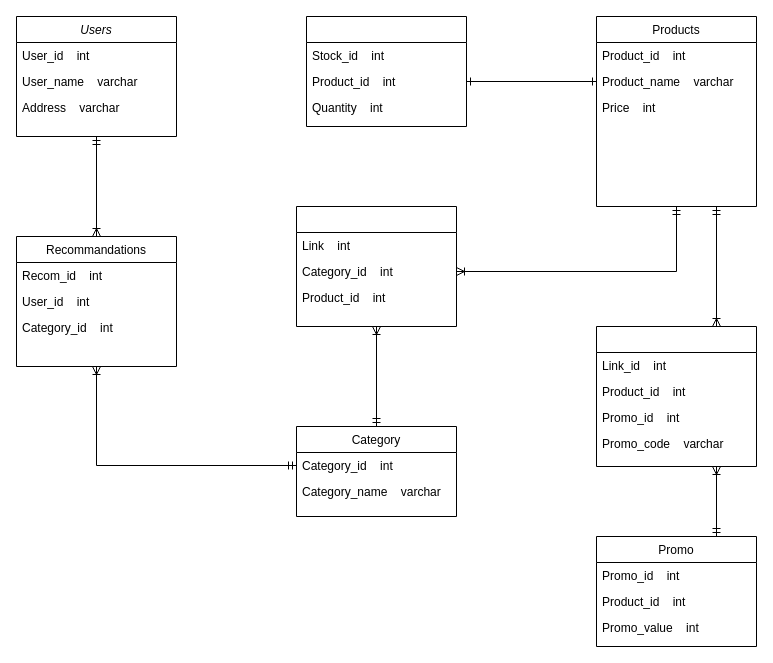
Some shapes in this 773 by 663 pixel diagram are drawn without their labels. Here are the shapes that lost their labels. From the top down, the box of each, then its label:
(306, 16, 466, 126): Stocks
(296, 206, 456, 326): CategoryProducts
(596, 326, 756, 466): ProductPromo
